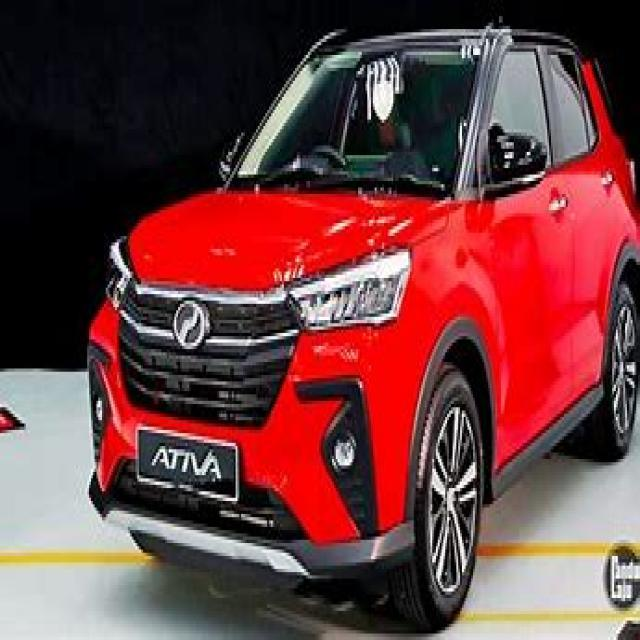PeroduaAtiva: (85, 19, 638, 630)
